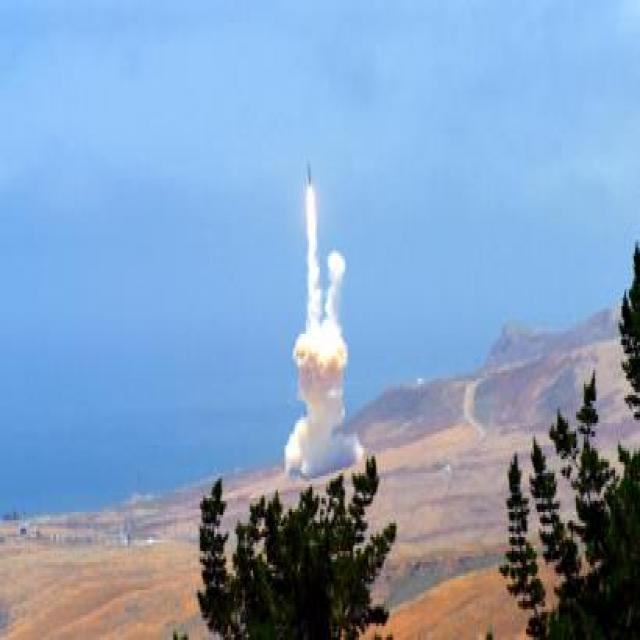Missile: (303, 155, 317, 193)
